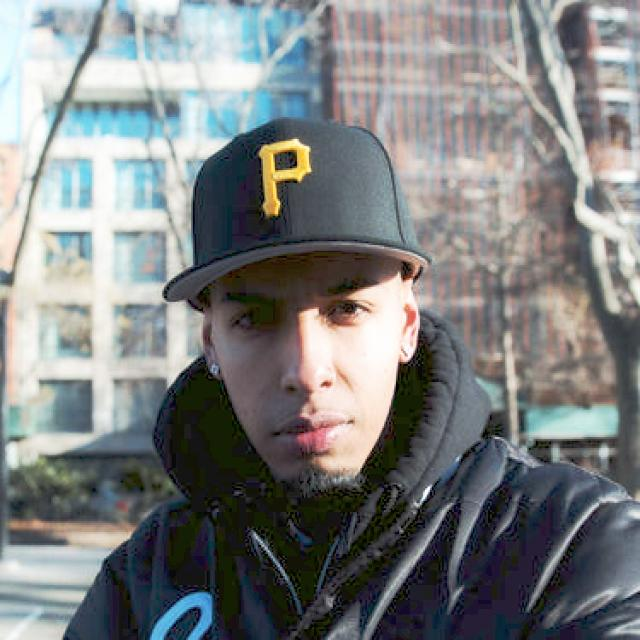TOPI: (149, 114, 442, 308)
